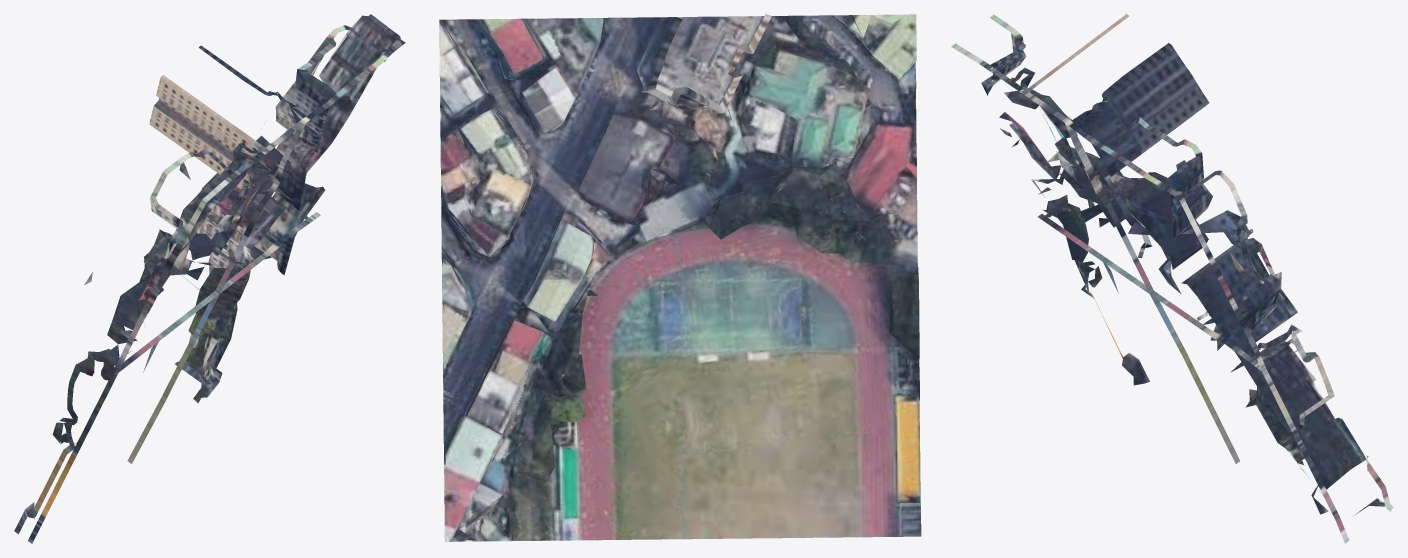
3 views of the same model, side by side, from view 1: azimuth 30°, elevation 25°; view 2: azimuth 150°, elevation 25°; view 3: azimuth 270°, elevation 25° (orthographic). The views are drawn at different scales.
Bounding box in the file's own units: 155 × 157 × 143.
Materials: 2 (2 with a texture image).
